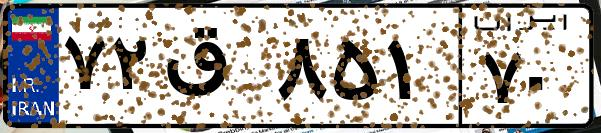0: (525, 38, 570, 115)
1: (385, 28, 445, 110)
2: (110, 28, 158, 98)
5: (330, 28, 385, 110)
7: (57, 26, 110, 100), (475, 38, 525, 113)
8: (270, 28, 330, 110)
ق: (158, 20, 270, 120)
